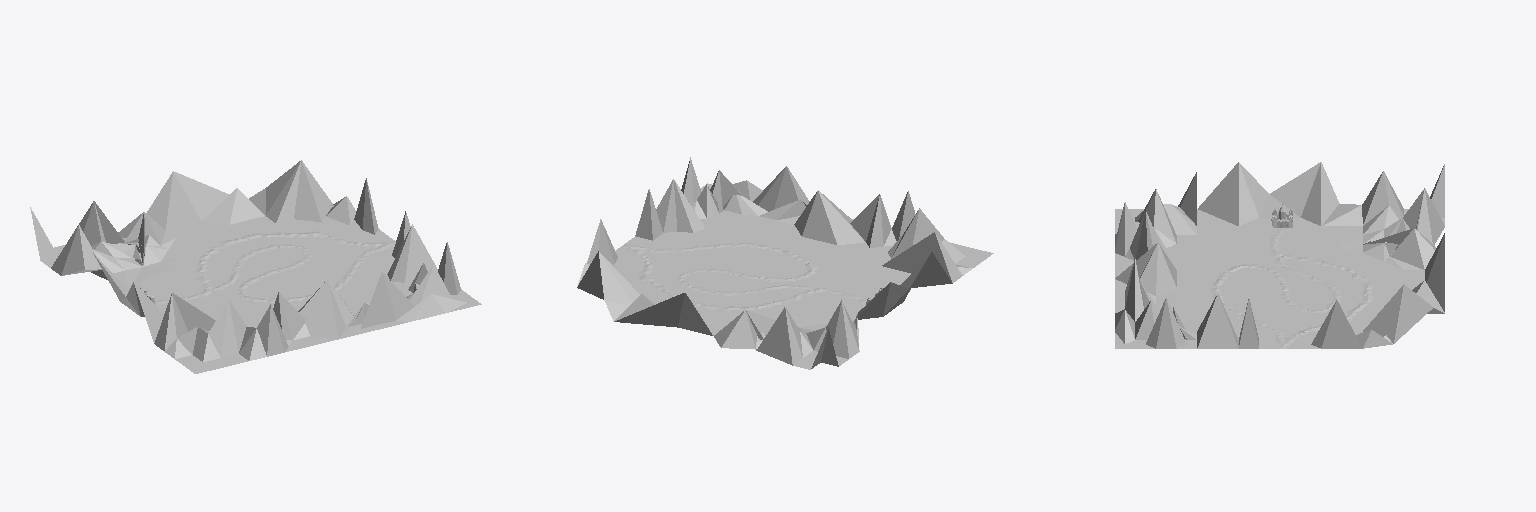
File: map.obj
3 renders of one model, left to right at view 1: azimuth 30°, elevation 25°; view 2: azimuth 150°, elevation 25°; view 3: azimuth 270°, elevation 25°, orthographic.
Visible parts, largest first — view 1: Plane; view 2: Plane; view 3: Plane.
Part boxes in pixels (x1,y1,x2,y2): Plane: (30,160,481,373); Plane: (577,157,993,369); Plane: (1115,162,1444,348).
Size of the model in its own units: 38.36 by 6.23 by 38.36.